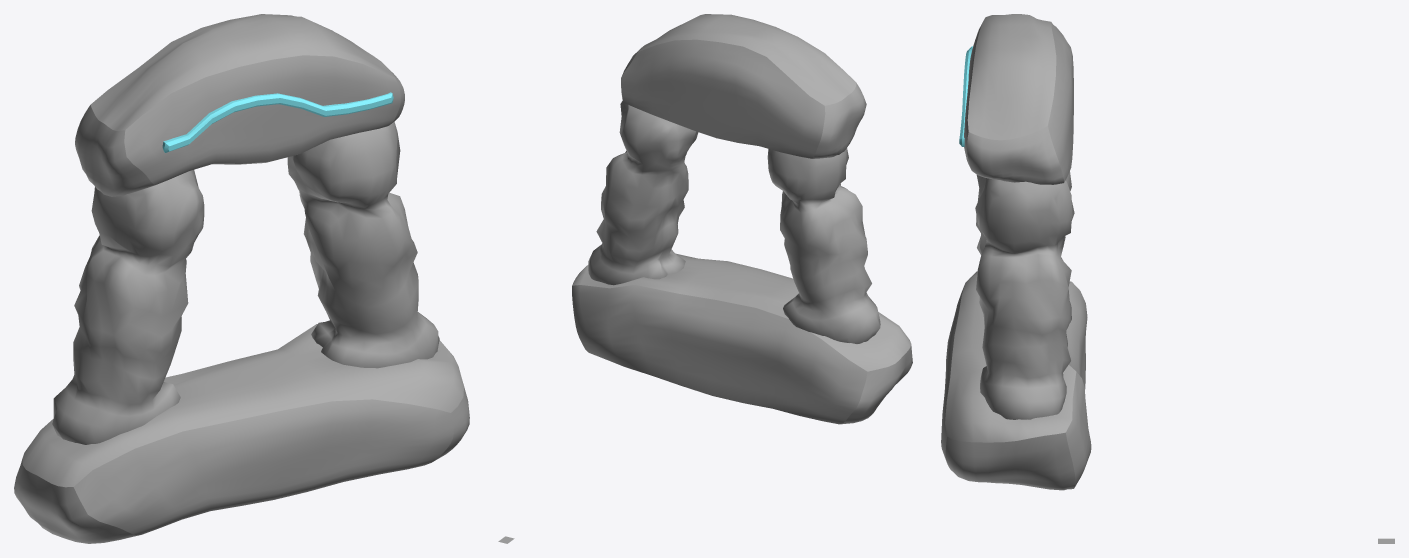
The model's file is Water Door.fbx.
3 views of the same model, side by side, from view 1: azimuth 30°, elevation 25°; view 2: azimuth 150°, elevation 25°; view 3: azimuth 270°, elevation 25° (orthographic). The views are drawn at different scales.
Visible parts, largest first — view 1: WD_Bottom, WD_Top, WD_leftside, WD_Rightside, Eye_brow; view 2: WD_Bottom, WD_Top, WD_leftside, WD_Rightside; view 3: WD_Rightside, WD_Bottom, WD_Top.
Part boxes in pixels (box(x1,y1,x2,y2)): WD_Bottom: box(14, 324, 469, 543); WD_Top: box(75, 14, 404, 196); WD_leftside: box(52, 170, 204, 444); WD_Rightside: box(287, 122, 439, 368); Eye_brow: box(162, 92, 393, 152); WD_Bottom: box(572, 253, 912, 424); WD_Top: box(621, 14, 866, 158); WD_leftside: box(767, 148, 880, 343); WD_Rightside: box(588, 100, 698, 285); WD_Rightside: box(975, 178, 1074, 419); WD_Bottom: box(941, 271, 1091, 490); WD_Top: box(964, 14, 1073, 184).
Size of the model in its own units: 4.08 by 5.04 by 4.44.
